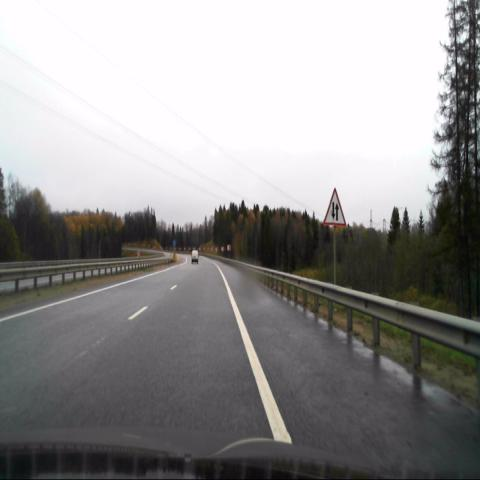1_21: (323, 188, 346, 226)
